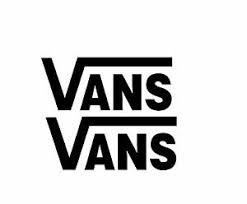vans: (46, 116, 178, 172), (41, 56, 174, 110)
